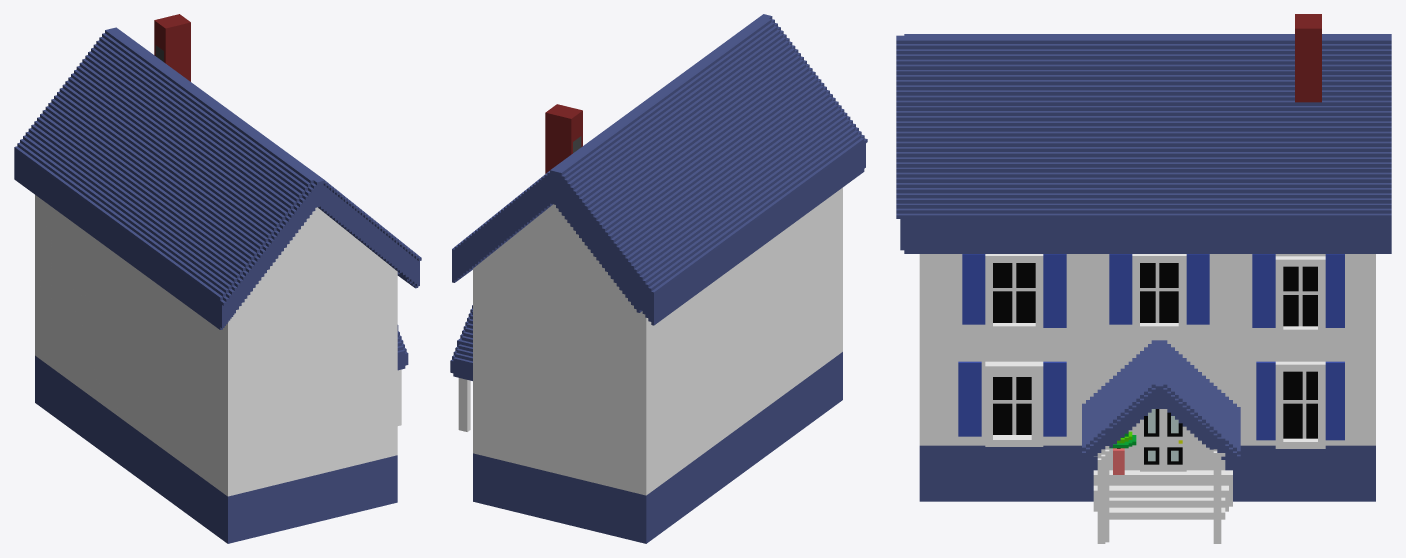
Rendered from casa.obj.
The picture shows the model from 3 angles, left to right: view 1: azimuth 30°, elevation 25°; view 2: azimuth 150°, elevation 25°; view 3: azimuth 270°, elevation 25°; orthographic projection. The views are drawn at different scales.
Size of the model in its own units: 9.3 by 12.7 by 12.8.
1 material, 1 textured.
